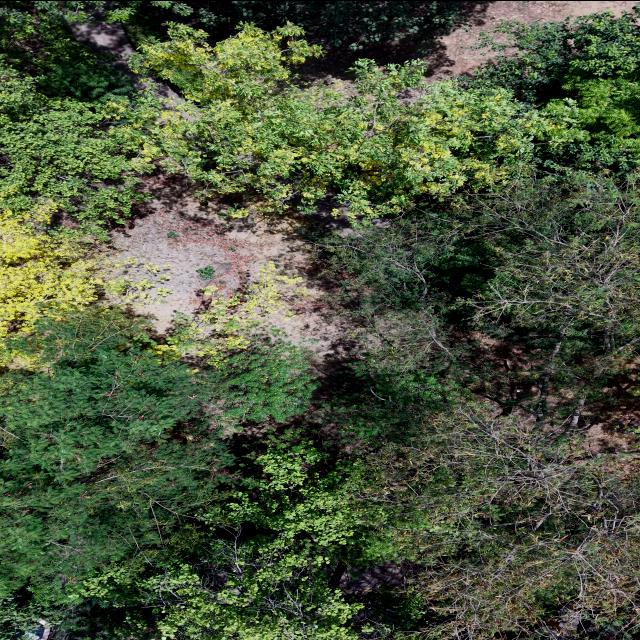DRY_AREA: (111, 174, 354, 445), (114, 176, 353, 443), (110, 173, 355, 431), (113, 175, 359, 394), (113, 173, 351, 395), (112, 174, 344, 364), (110, 174, 311, 334), (111, 174, 309, 334), (113, 175, 312, 332), (113, 175, 308, 331), (114, 178, 310, 331), (302, 1, 638, 81), (305, 1, 638, 80), (112, 176, 240, 333), (427, 1, 637, 78), (72, 11, 147, 89), (72, 15, 134, 70), (336, 562, 419, 594)
VEGETATION_TREE: (0, 1, 639, 639), (321, 69, 638, 639), (122, 15, 638, 219), (124, 25, 586, 219), (0, 311, 313, 596), (355, 401, 637, 639), (58, 440, 362, 639), (321, 172, 638, 338), (0, 4, 152, 237), (467, 15, 639, 171), (119, 1, 465, 49), (0, 206, 104, 342), (195, 1, 462, 48)
